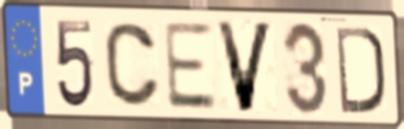3: (280, 19, 330, 119)
5: (54, 17, 94, 108)
C: (102, 19, 164, 110)
D: (333, 23, 388, 117)
E: (160, 19, 219, 112)
V: (212, 18, 277, 116)
